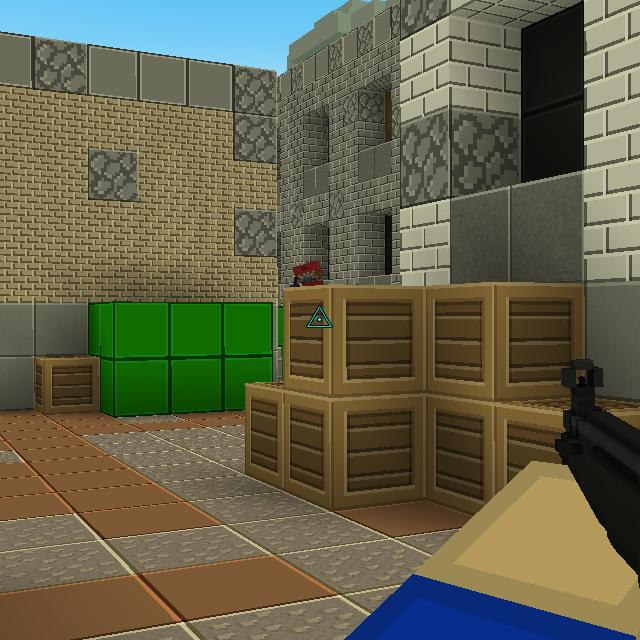enemy: (292, 260, 326, 287)
